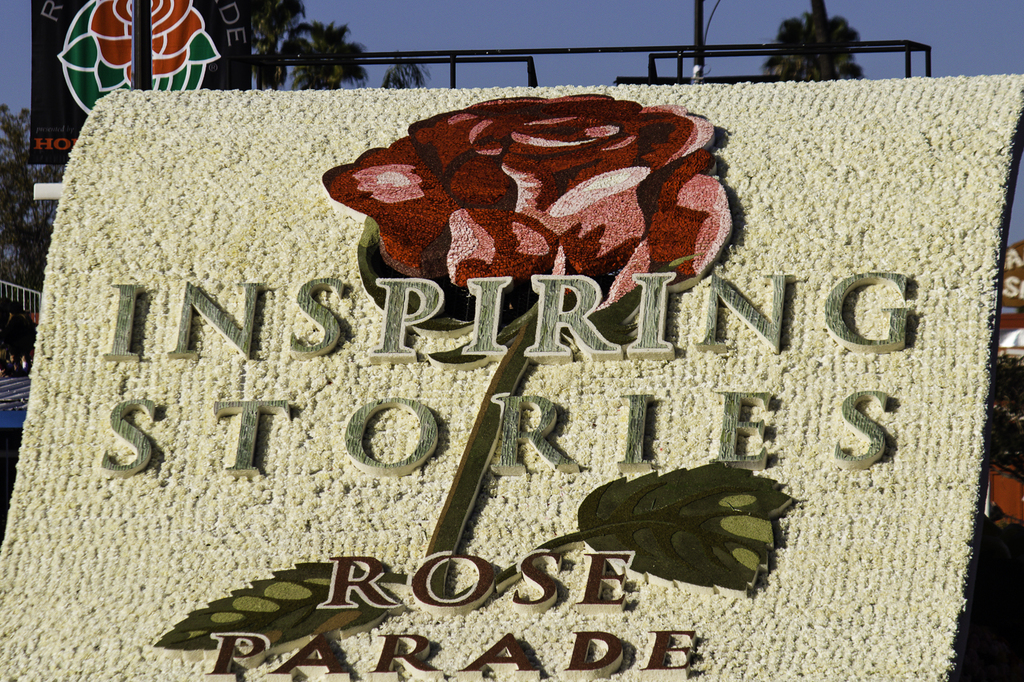Tree: (762, 11, 860, 81), (288, 21, 367, 84)
